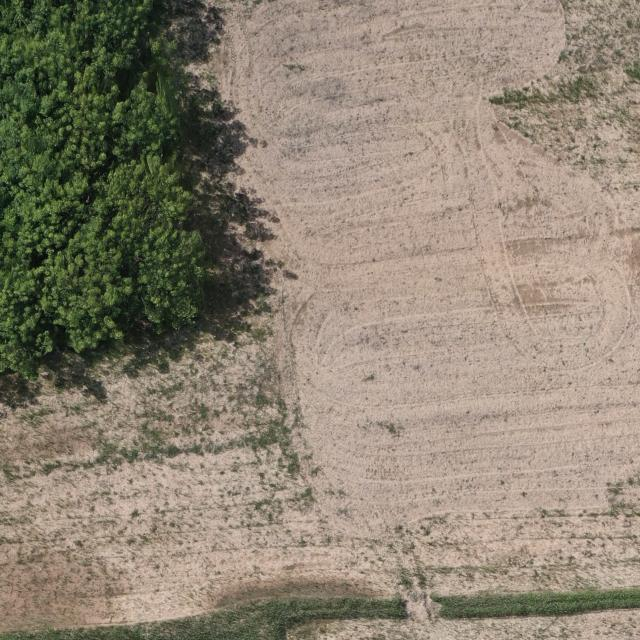Tree: (0, 0, 227, 405)
